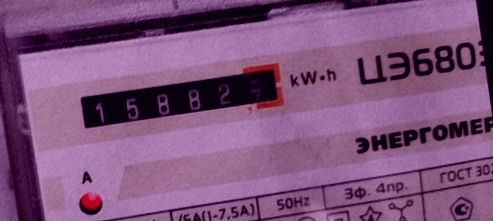1: (92, 98, 107, 126)
2: (214, 80, 234, 107)
5: (122, 95, 140, 122)
7: (246, 85, 264, 104)
8: (153, 90, 173, 117), (185, 86, 203, 112)
screen: (69, 56, 293, 143)
